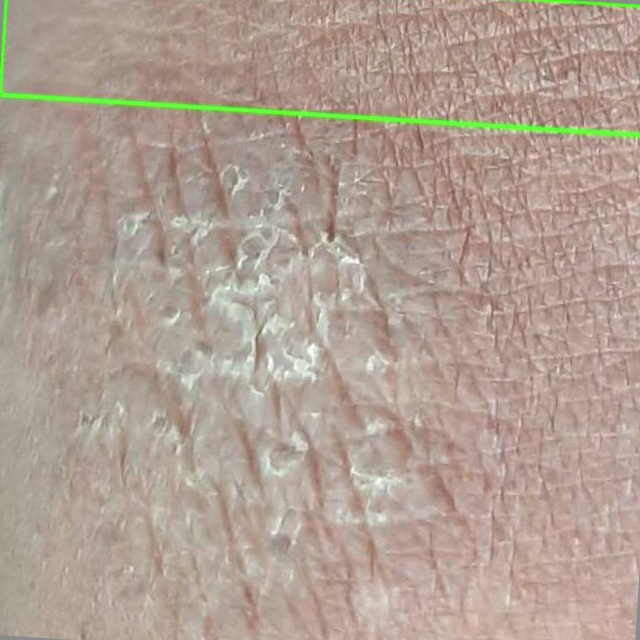Tinea Corporis: (0, 0, 639, 135)
